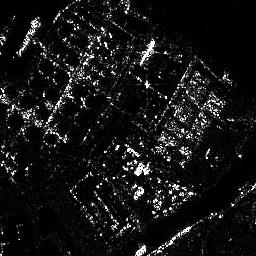ship: (15, 15, 41, 60)
